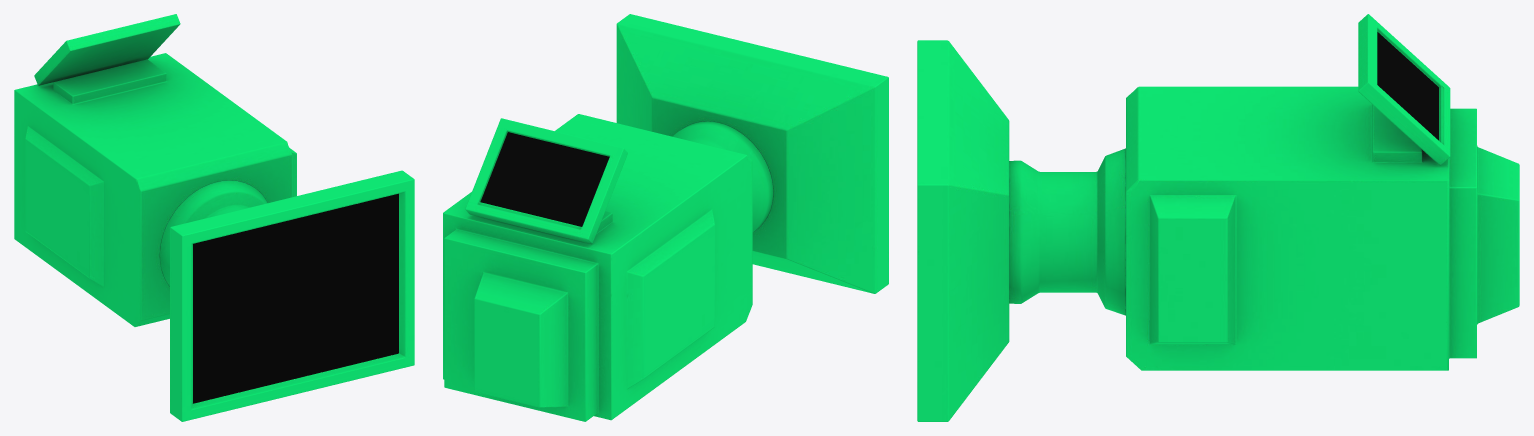
The model's file is camera_green_4.glb.
3 views of the same model, side by side, from view 1: azimuth 30°, elevation 25°; view 2: azimuth 150°, elevation 25°; view 3: azimuth 270°, elevation 25° (orthographic). The views are drawn at different scales.
Visible parts, largest first — view 1: Cam.Helper; view 2: Cam.Helper; view 3: Cam.Helper.
Part boxes in pixels (box(x1,y1,x2,y2)): Cam.Helper: box(14, 14, 414, 421); Cam.Helper: box(443, 14, 888, 421); Cam.Helper: box(917, 14, 1519, 421).
Bounding box in the file's own units: 0.3085 × 0.3 × 0.5423.
2 materials, 1 textured.
